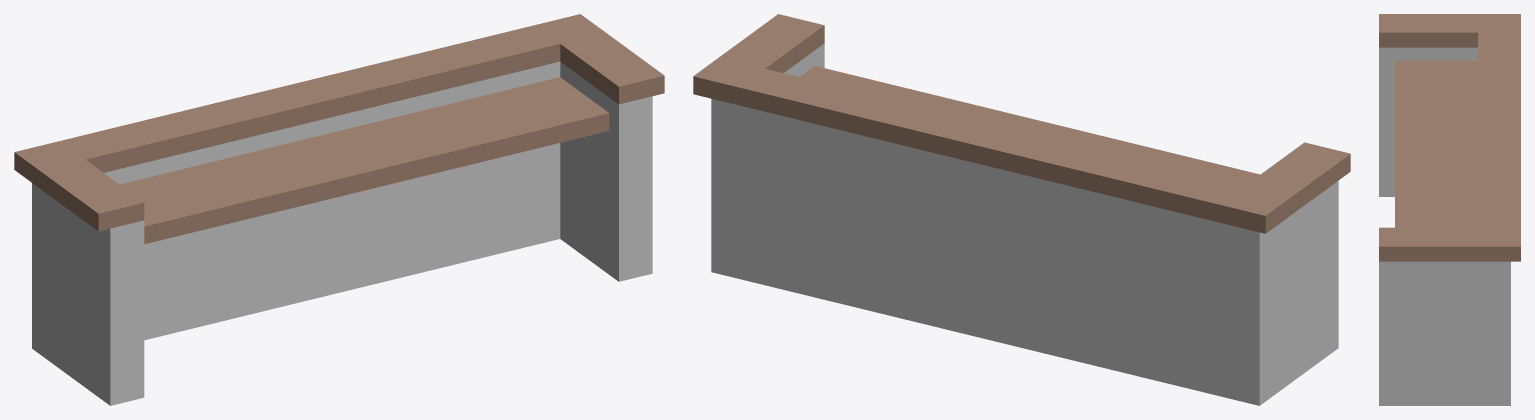
File: counter2.fbx
3 views of the same model, side by side, from view 1: azimuth 30°, elevation 25°; view 2: azimuth 150°, elevation 25°; view 3: azimuth 270°, elevation 25° (orthographic). The views are drawn at different scales.
Parts seen in each view (by area): view 1: Cube; view 2: Cube; view 3: Cube.
Boxes of the visible parts, x1,y1,x2,y2 form: Cube: (14,14,664,405); Cube: (693,14,1350,405); Cube: (1379,14,1520,405).
Bounding box in the file's own units: 334 × 110 × 86.02.
